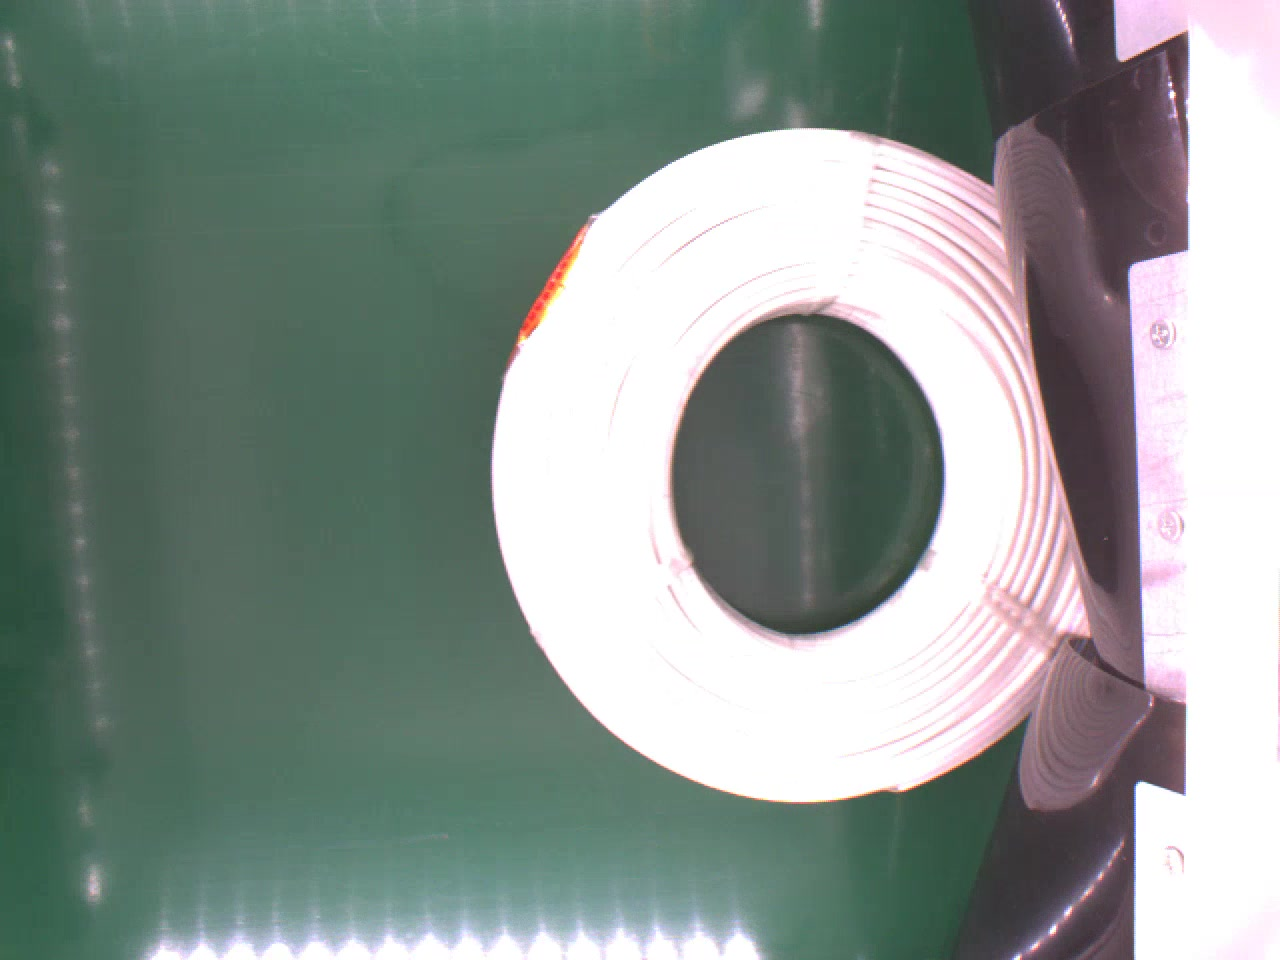white: (485, 123, 1091, 812)
